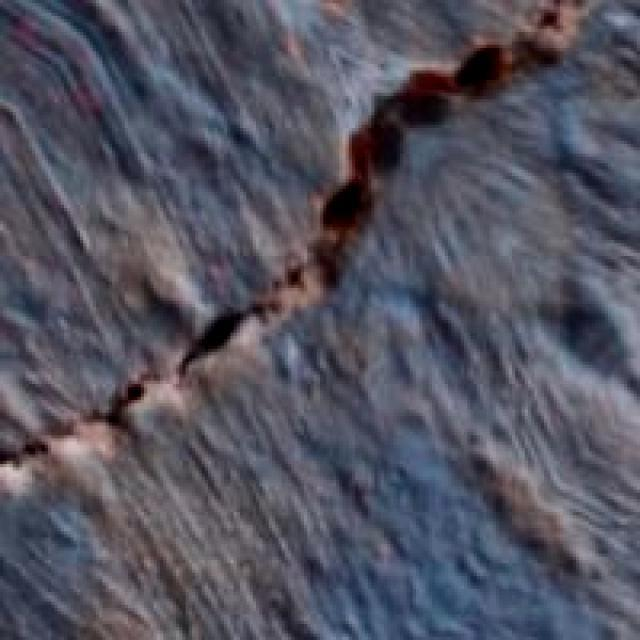crack: (0, 0, 592, 526)
